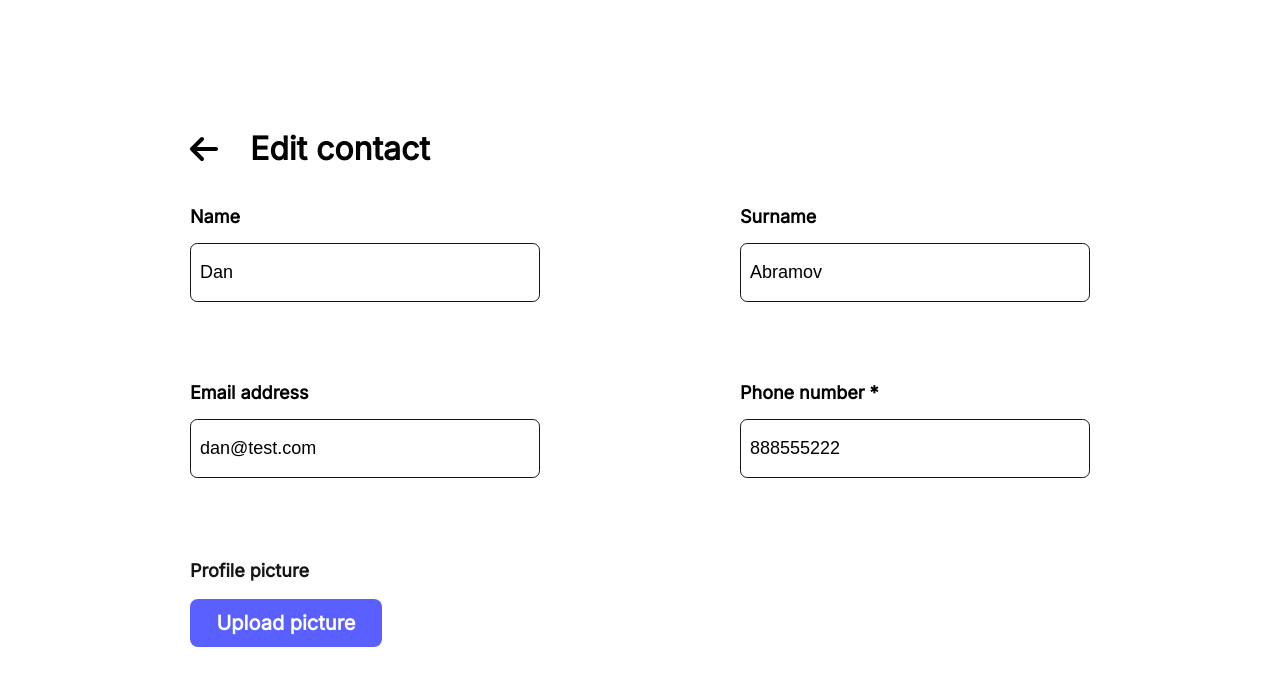
Test: Given a UpdateContact component › When it is instantiated › And the value of the phone number is empty › Then the button should be disabled
The width and height of the screenshot is (1280, 681).
Clear the number field labelled "Phone number *" at (915, 448), box [740, 419, 1090, 478]
(page scrolled)
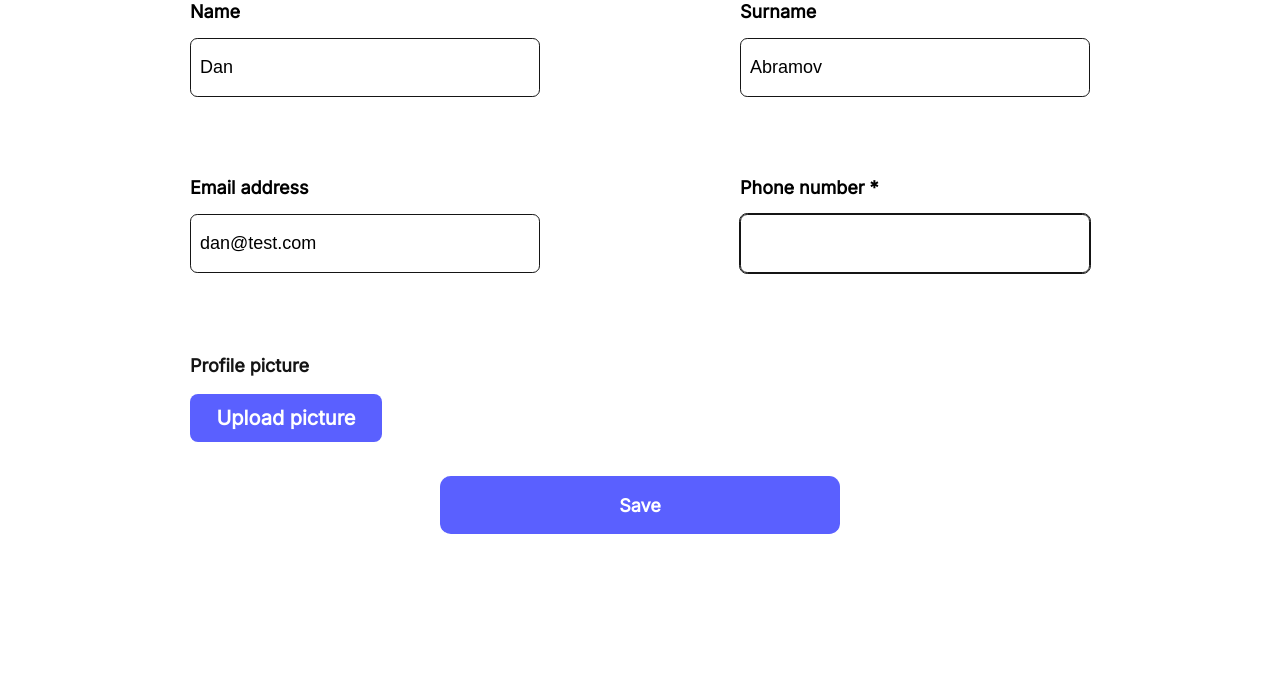
expect the button "Save" is disabled: met, box [440, 476, 840, 534]
